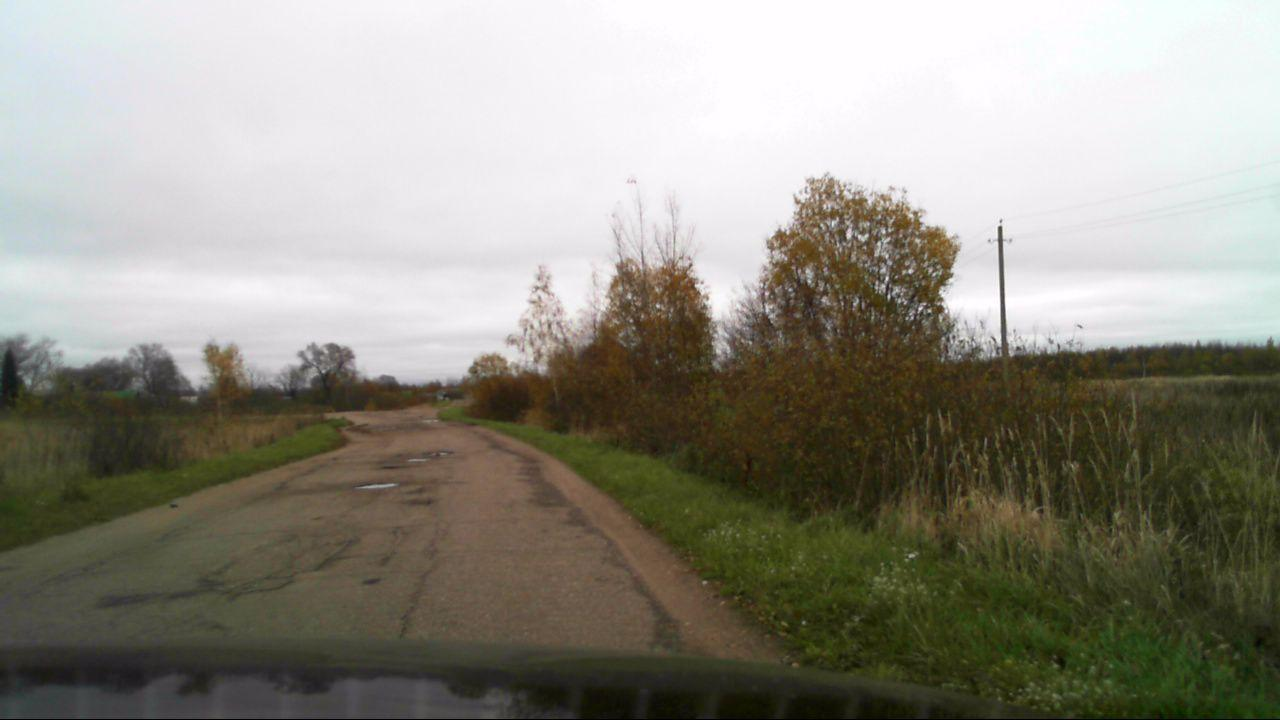pothole: (354, 482, 398, 489)
